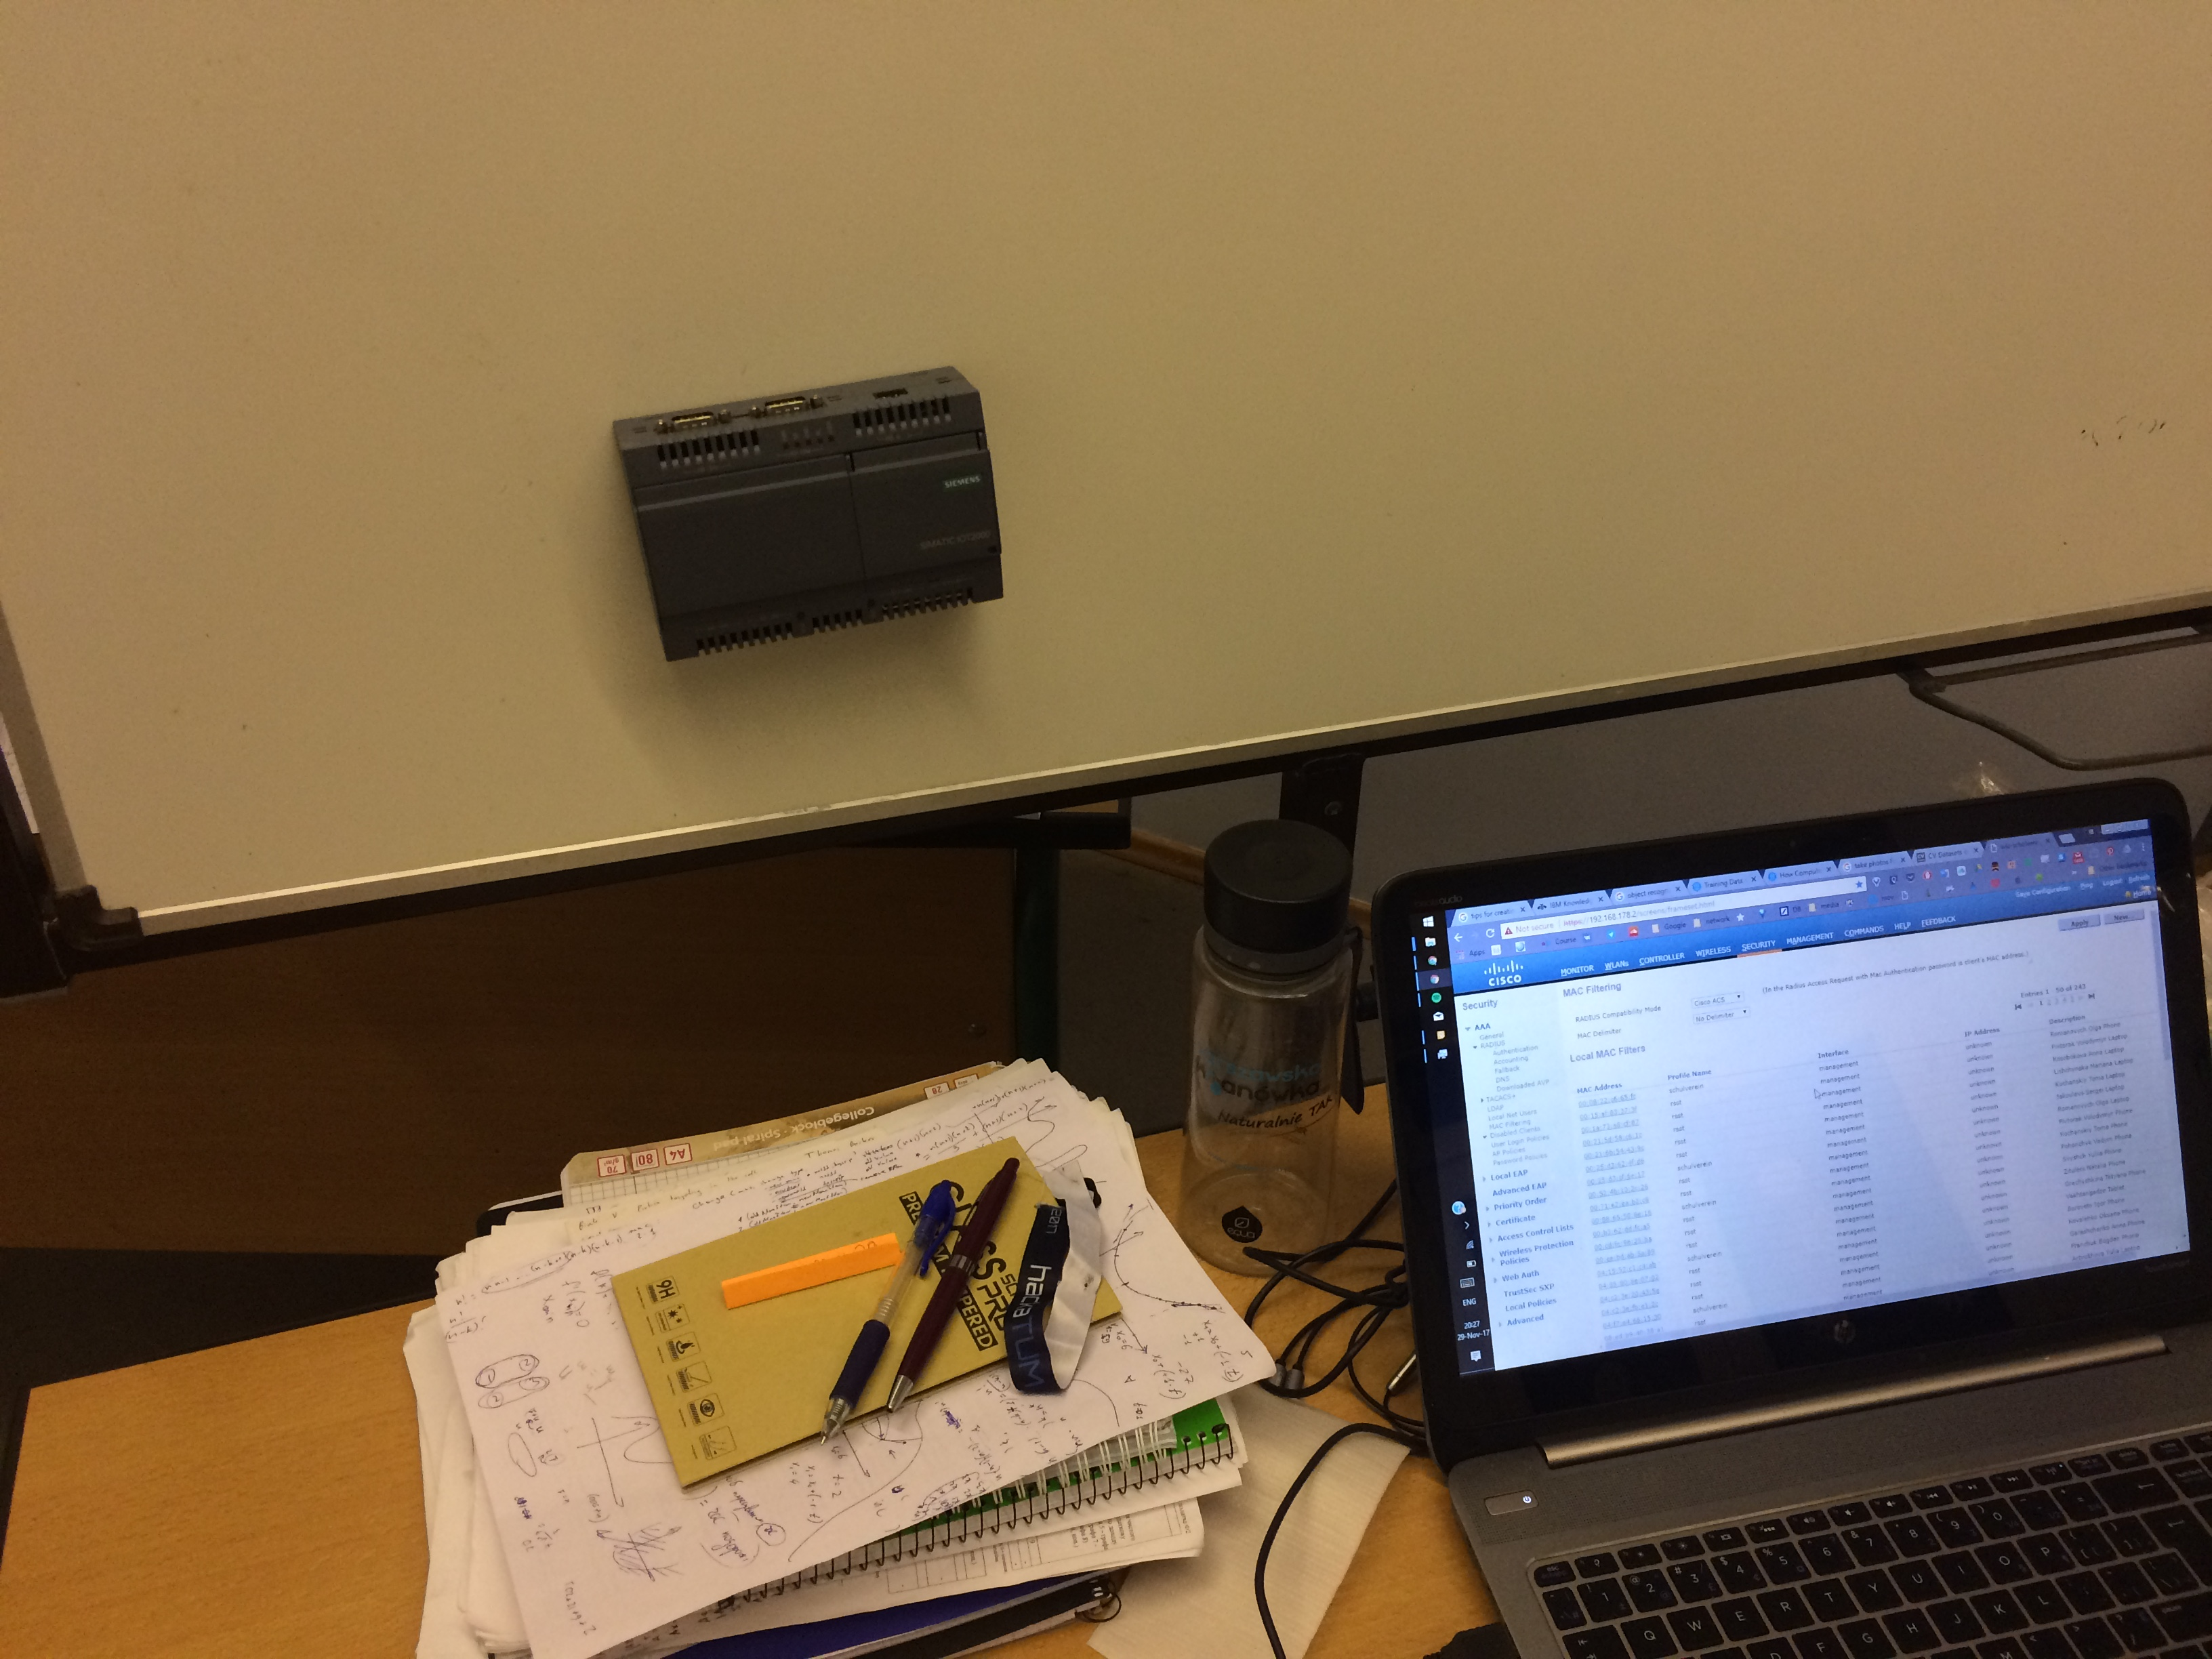iot2000: (610, 364, 1008, 664)
